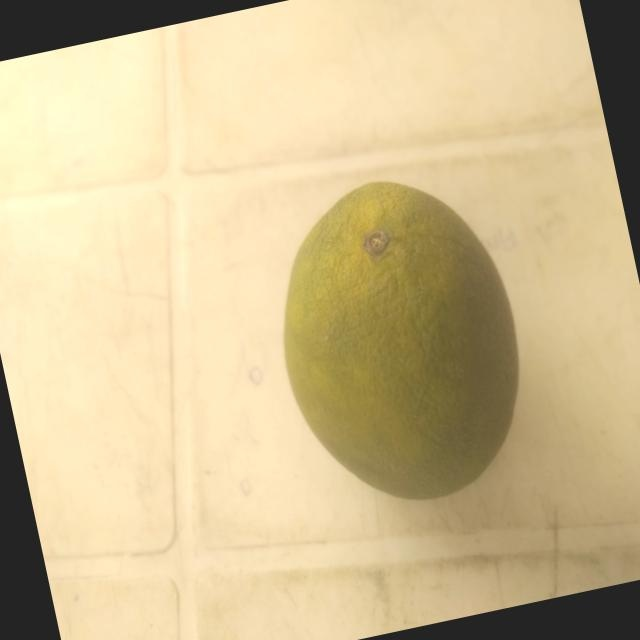agrume: (248, 138, 565, 546)
